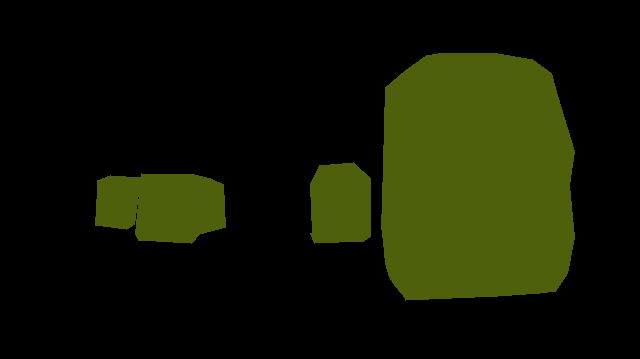Train: (381, 53, 574, 300), (135, 173, 226, 244), (310, 162, 371, 244), (95, 175, 141, 230)
